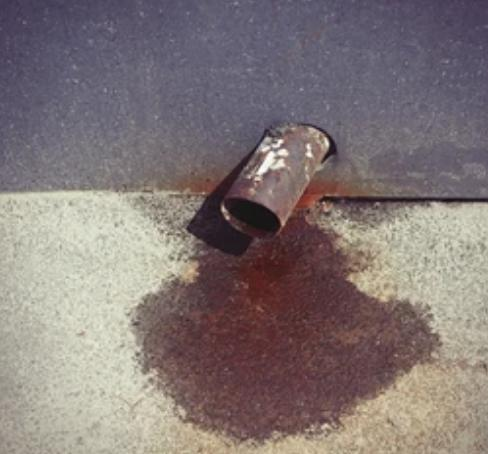water accumulation: (128, 206, 441, 443)
